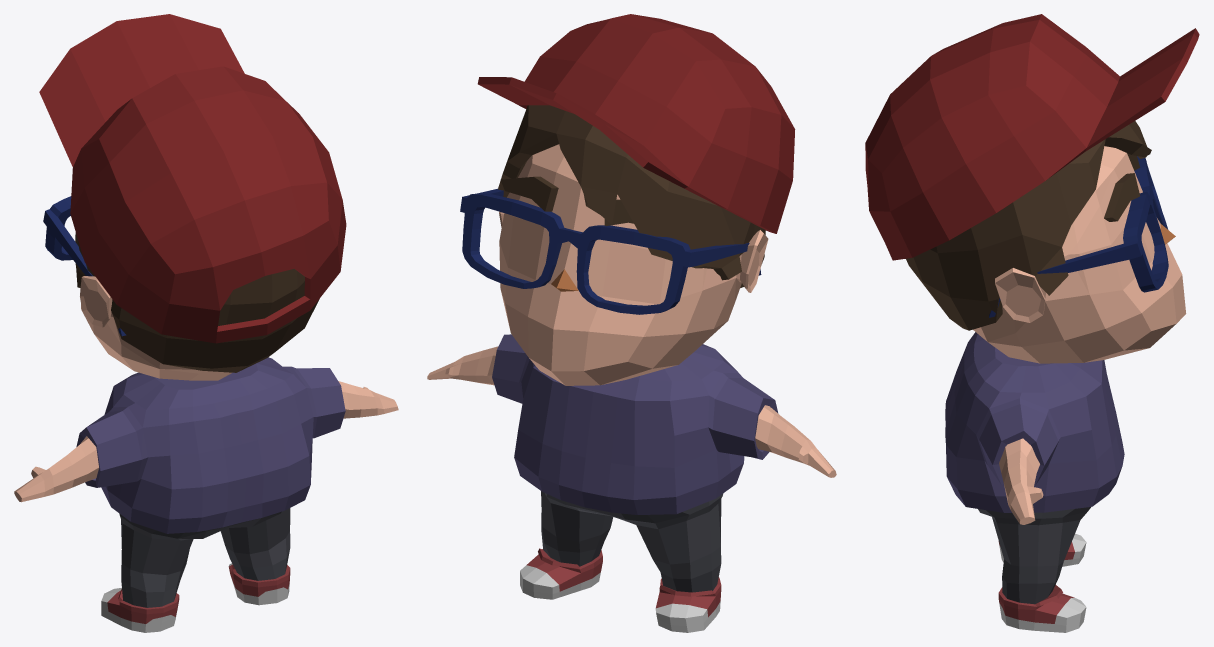
Rendered from luquio.fbx.
3 renders of one model, left to right at view 1: azimuth 30°, elevation 25°; view 2: azimuth 150°, elevation 25°; view 3: azimuth 270°, elevation 25°, orthographic. The views are drawn at different scales.
Visible parts, largest first — view 1: hat.002, body.002, eyebrows.002, lentes.002; view 2: body.002, eyebrows.002, hat.002, lentes.002; view 3: hat.002, eyebrows.002, body.002, lentes.002.
Boxes of the visible parts, x1,y1,x2,y2 form: hat.002: [39, 14, 346, 343]; body.002: [14, 357, 398, 632]; eyebrows.002: [75, 232, 319, 380]; lentes.002: [43, 196, 126, 336]; body.002: [427, 334, 836, 632]; eyebrows.002: [498, 105, 768, 385]; hat.002: [477, 14, 795, 233]; lentes.002: [460, 188, 761, 314]; hat.002: [865, 14, 1199, 260]; eyebrows.002: [906, 121, 1186, 363]; body.002: [945, 332, 1124, 632]; lentes.002: [989, 156, 1168, 317].
Size of the model in its own units: 75.96 by 103 by 56.09.
